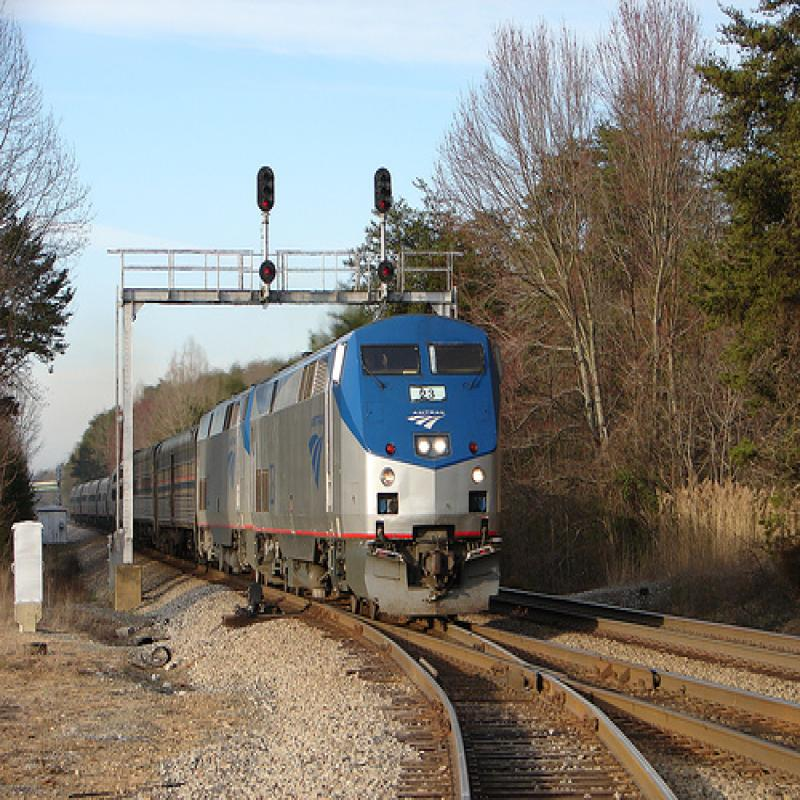train: (64, 302, 504, 622)
